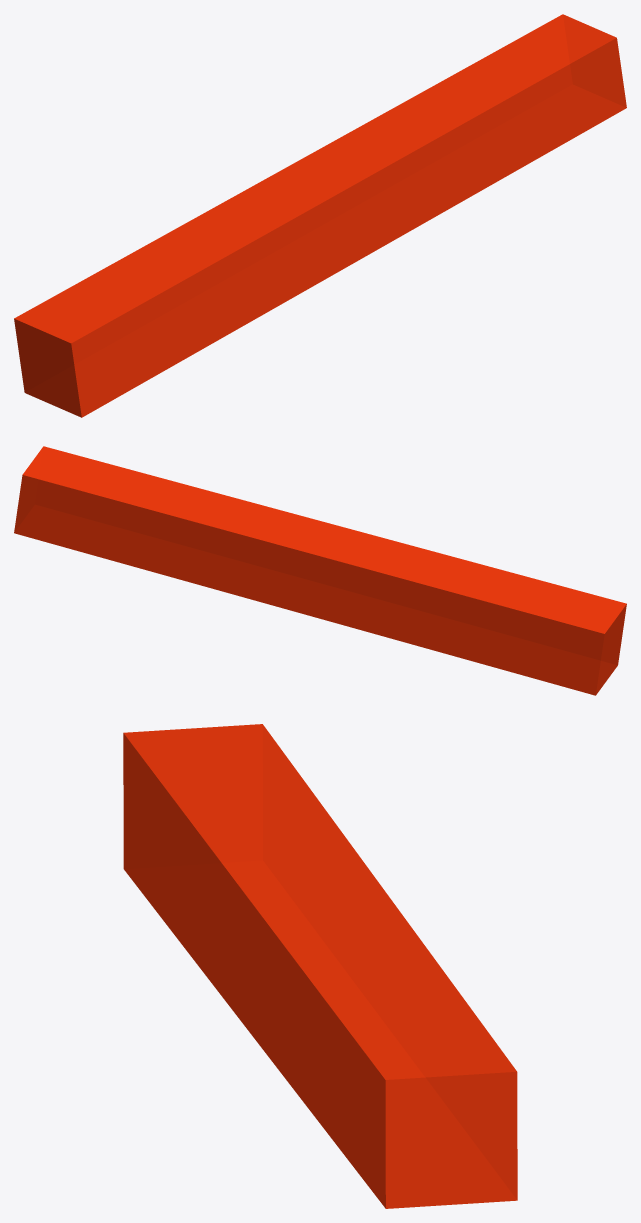
Rendered from Event_421556567_EErechit_50.fbx.
3 views of the same model, one above another, from view 1: azimuth 30°, elevation 25°; view 2: azimuth 150°, elevation 25°; view 3: azimuth 270°, elevation 25° (orthographic). The views are drawn at different scales.
Visible parts, largest first — view 1: Model; view 2: Model; view 3: Model.
Boxes of the visible parts, box(x1,y1,x2,y2) form: Model: box(14, 14, 626, 417); Model: box(14, 446, 626, 695); Model: box(123, 724, 517, 1208).
Size of the model in its own units: 0.6708 by 0.1721 by 0.2125.
